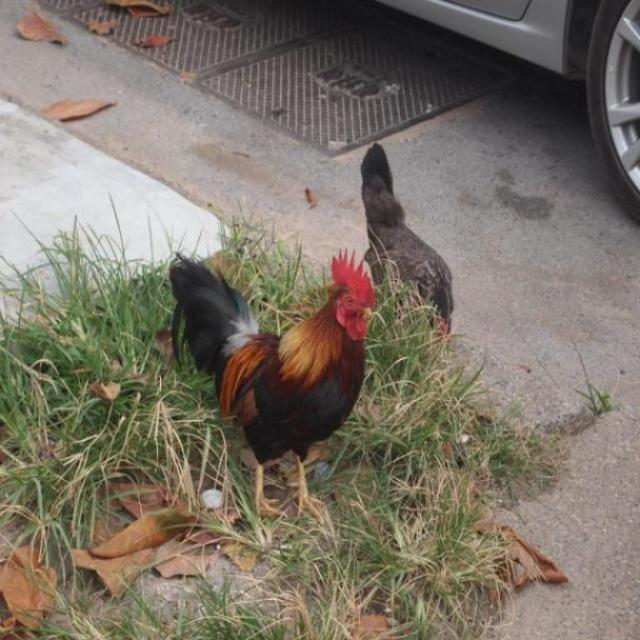Chicken: (169, 248, 374, 520), (360, 140, 456, 344)
